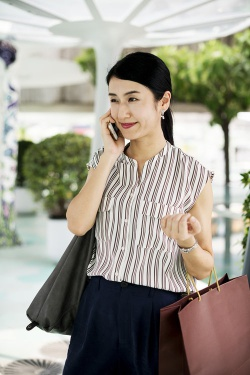female: (97, 45, 192, 163)
